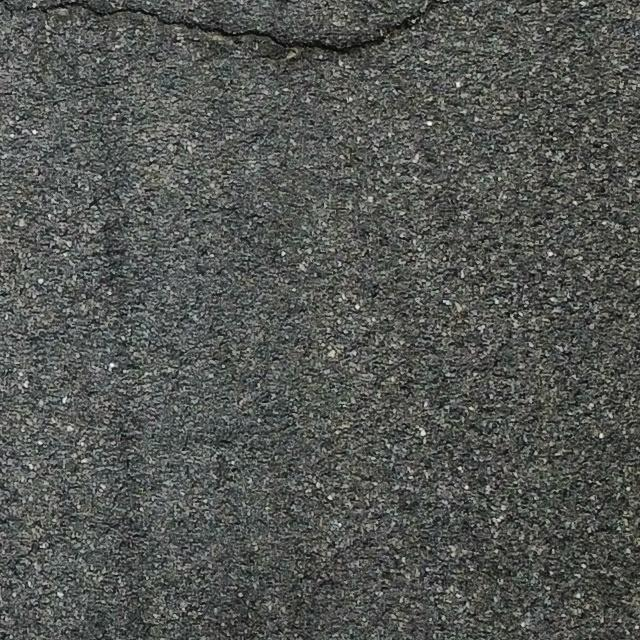TransverseCrack: (1, 1, 442, 53)
